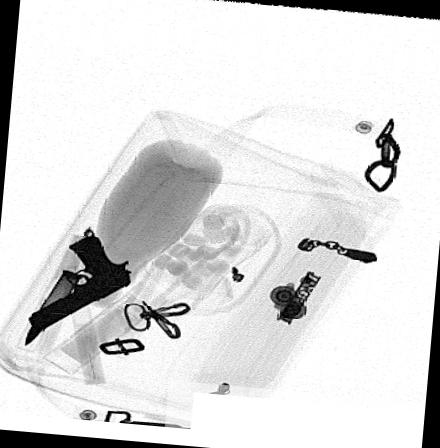Bullet: (23, 269, 80, 348)
Gun: (25, 234, 130, 330)
